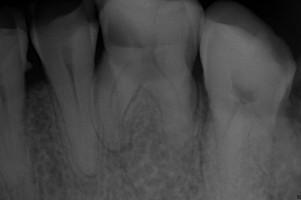Furcation Involvement: (106, 142, 134, 156)
